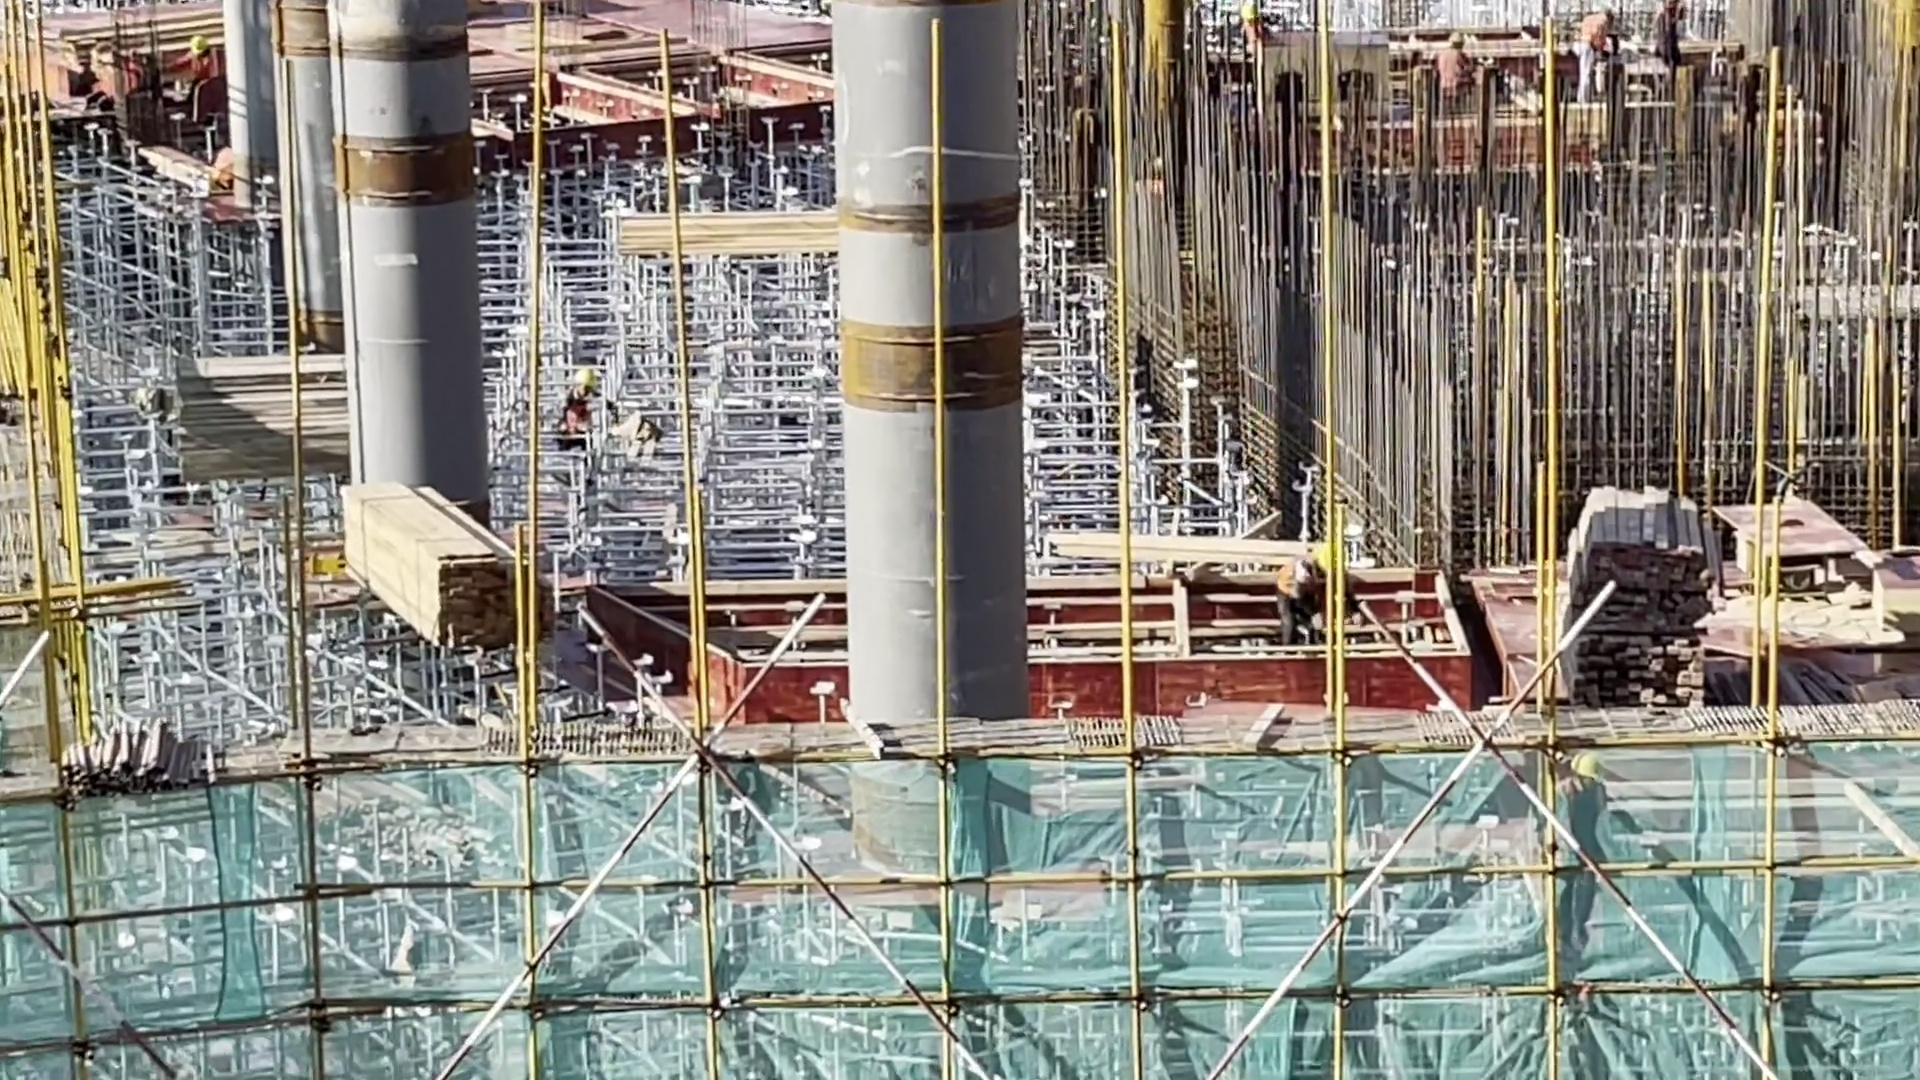helmet: (1315, 543, 1343, 575)
person: (1260, 530, 1354, 657)
wood: (1551, 465, 1726, 715)
